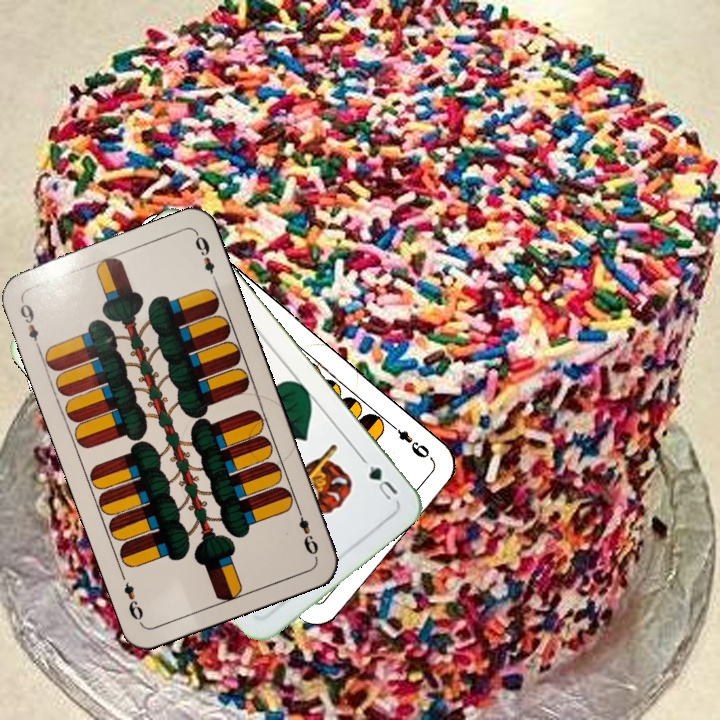E9: (385, 418, 432, 461), (293, 503, 321, 560), (16, 296, 41, 344)
GU: (364, 461, 401, 505)
